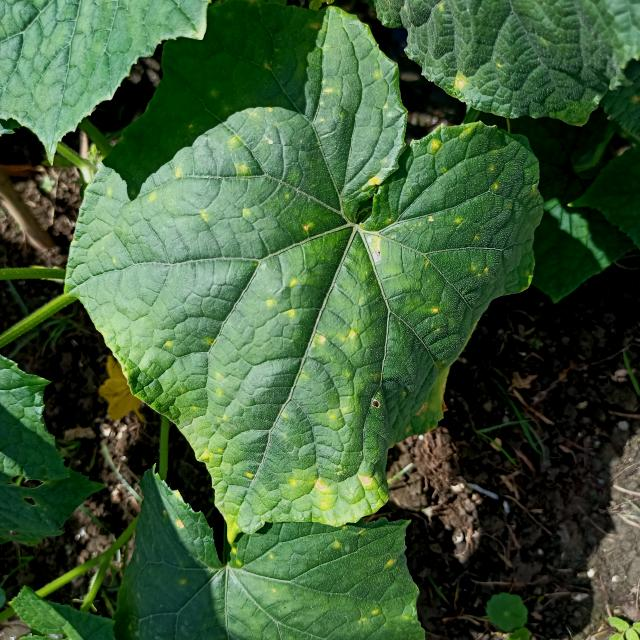disease_cucumber: (261, 322, 403, 519), (152, 85, 324, 240), (259, 273, 311, 324)
